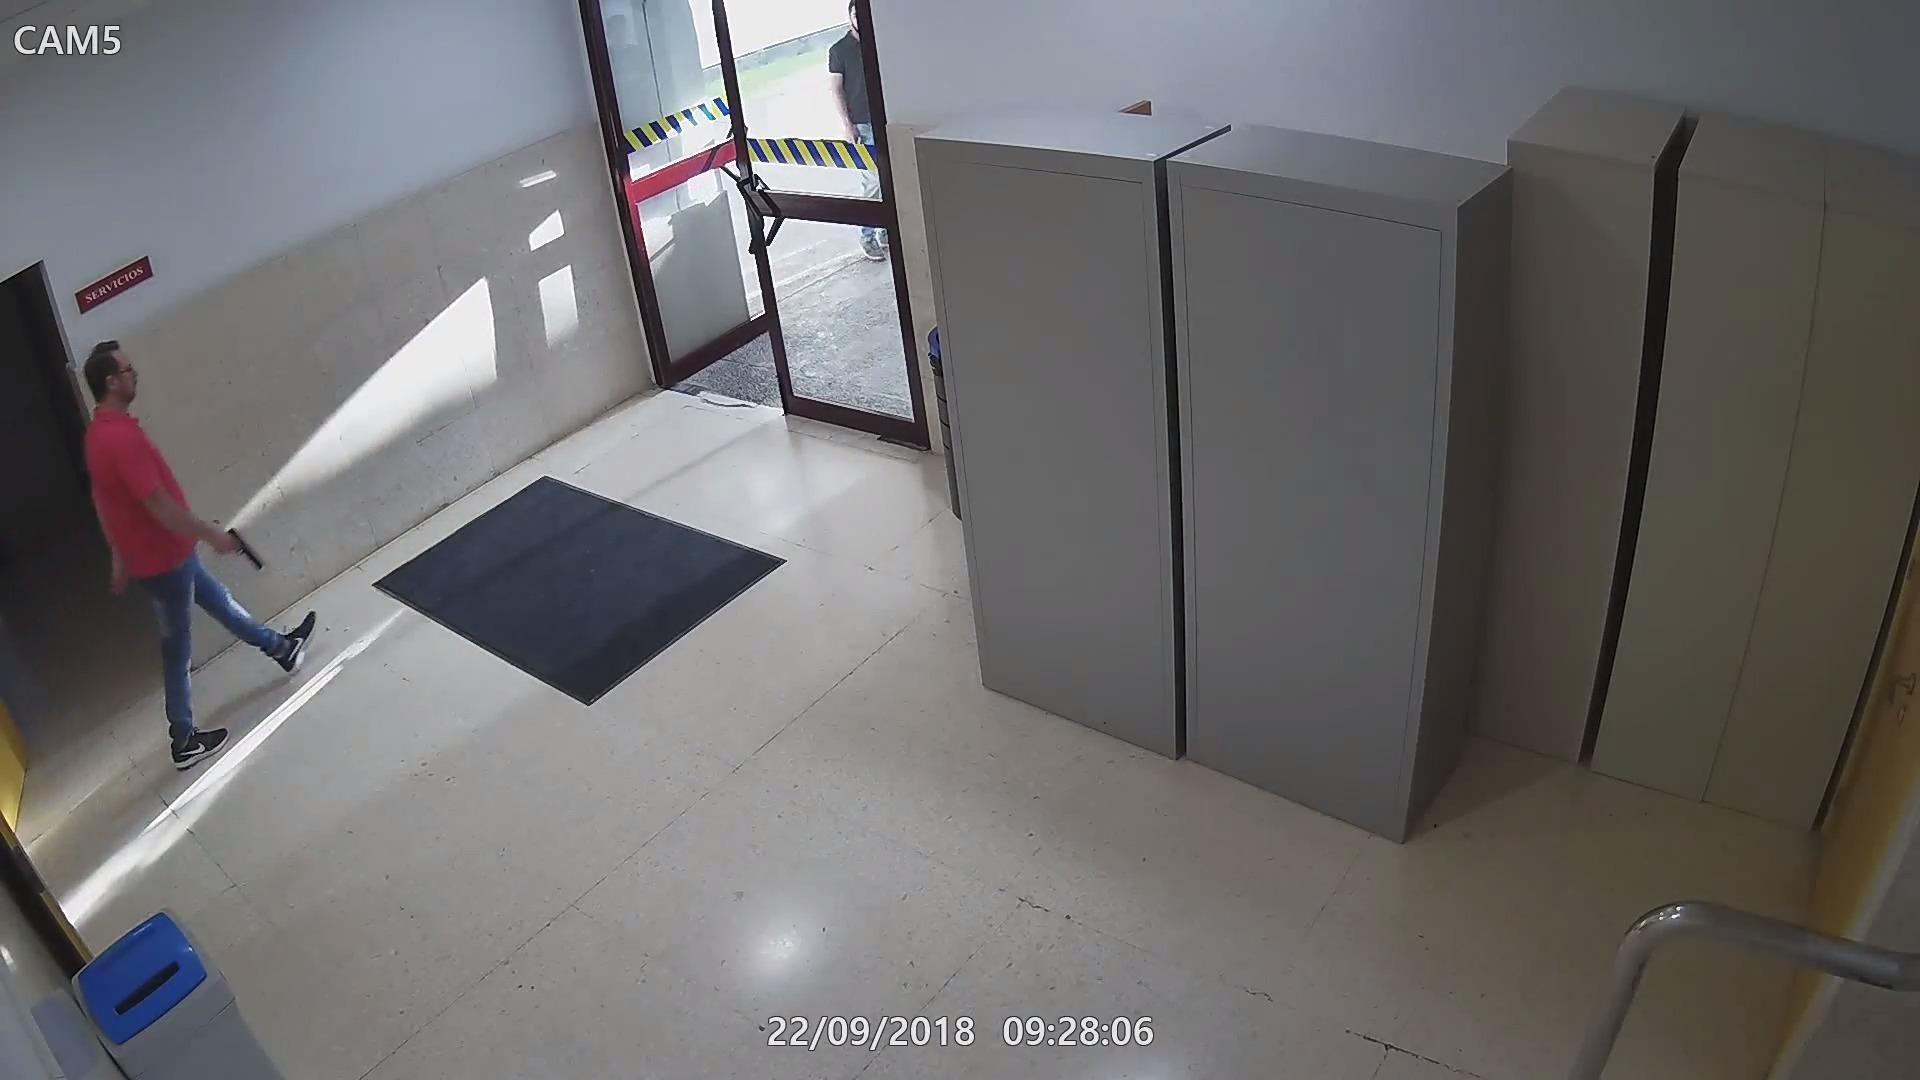Handgun: (195, 517, 264, 576)
